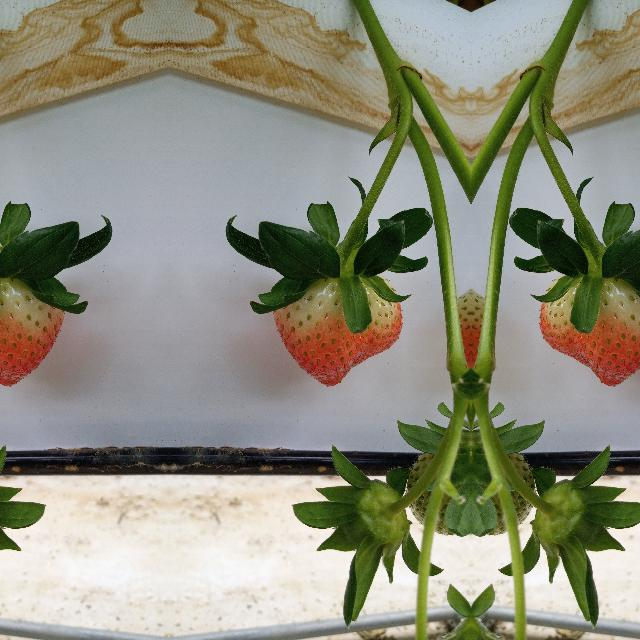Health_100: (272, 274, 402, 386), (538, 273, 640, 386), (0, 273, 64, 386)
